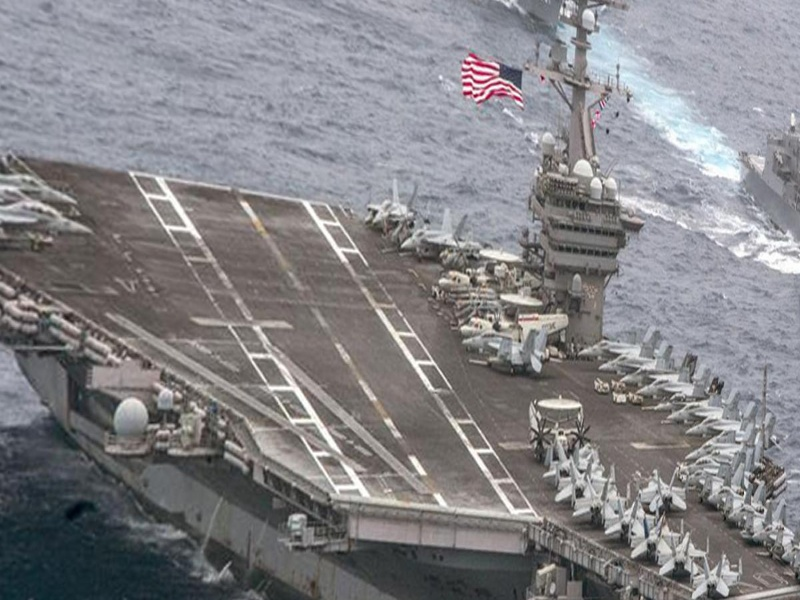carrier: (27, 118, 761, 598)
cruise: (738, 112, 800, 238)
